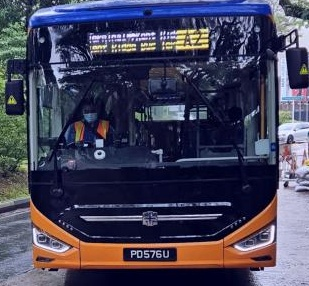bus: (176, 28, 207, 51)
